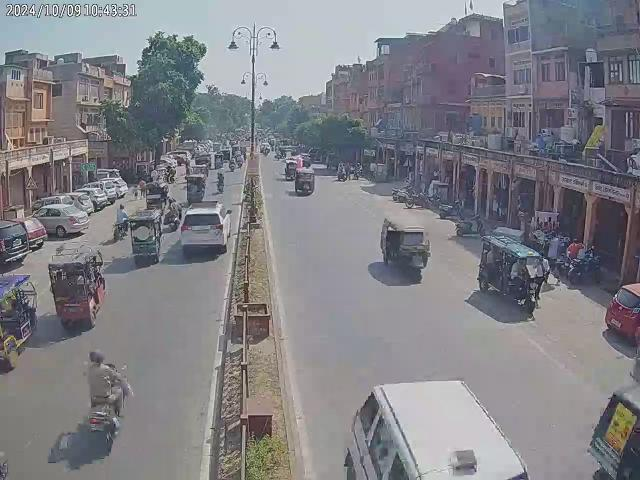auto: (478, 228, 548, 318), (588, 386, 640, 480), (48, 251, 106, 332), (0, 272, 39, 366), (380, 213, 432, 277), (128, 208, 164, 266), (184, 173, 207, 204), (293, 168, 315, 196)
car: (178, 200, 228, 260), (601, 283, 640, 344), (32, 202, 88, 238), (100, 178, 128, 200)
motorbike: (564, 252, 604, 282), (406, 191, 428, 210)
motorbike-rider: (84, 350, 132, 452), (112, 202, 128, 242)
no_helmet: (88, 350, 108, 366)
scooty: (456, 214, 488, 238), (434, 198, 468, 220)
